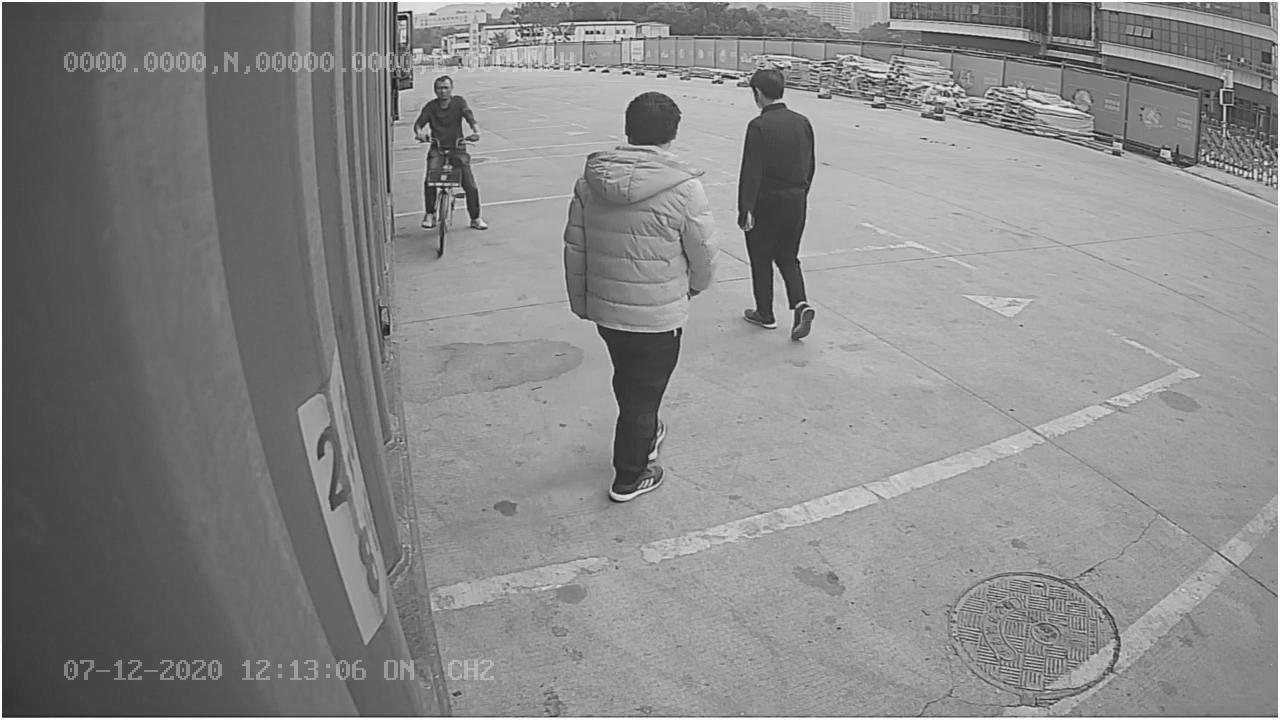person: (558, 86, 714, 503), (733, 66, 824, 345)
